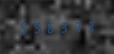five: (17, 20, 29, 34)
nine: (30, 20, 42, 34)
seven: (70, 19, 82, 33)
six: (44, 20, 56, 34)
three: (83, 19, 95, 33), (57, 20, 69, 33)
